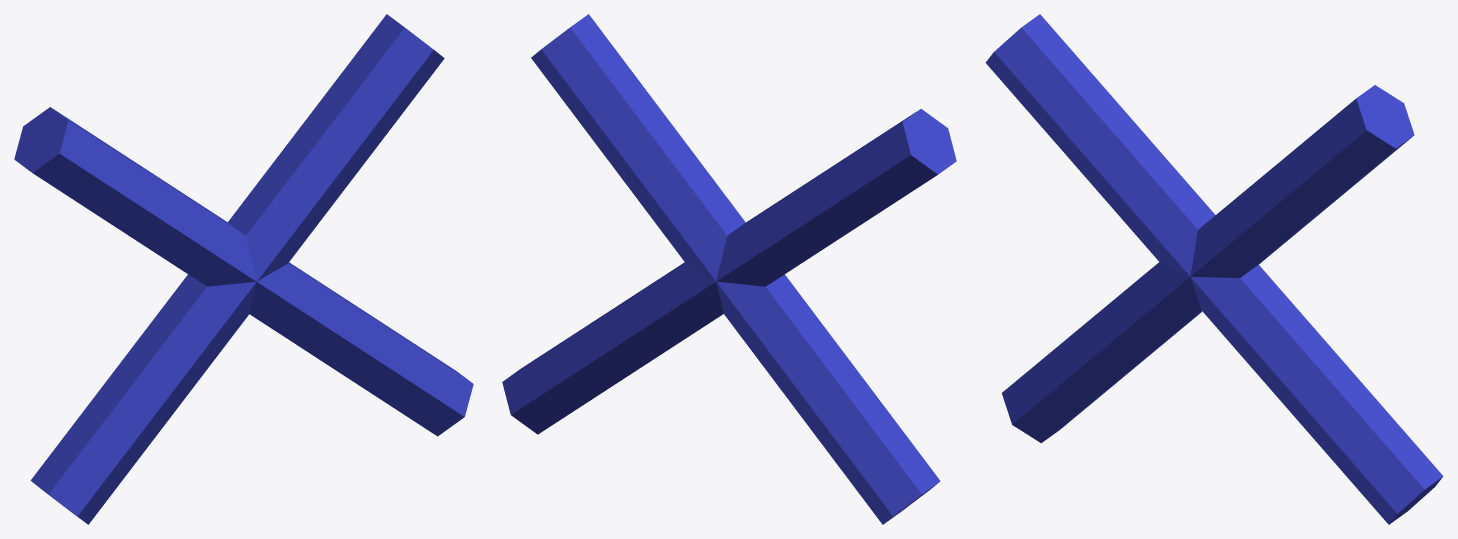
The picture shows the model from 3 angles, left to right: view 1: azimuth 30°, elevation 25°; view 2: azimuth 150°, elevation 25°; view 3: azimuth 330°, elevation 25°; orthographic projection.
Visible parts, largest first — view 1: node_id39 (×2); view 2: node_id39 (×2); view 3: node_id39 (×2).
Boxes of the visible parts, bbox=[...] form: node_id39 (×2): bbox=[14, 14, 473, 524]; node_id39 (×2): bbox=[502, 14, 956, 524]; node_id39 (×2): bbox=[985, 14, 1443, 524].
Bounding box in the file's own units: 0.4134 × 0.3788 × 0.0629.
